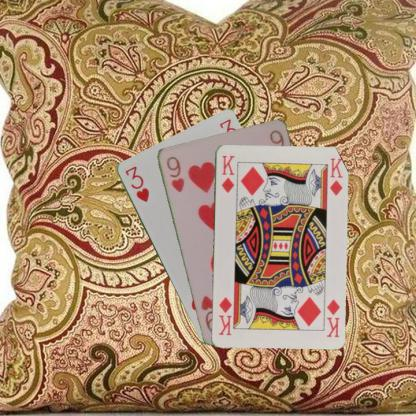3h: (122, 163, 150, 204)
9h: (164, 154, 186, 194)
Kd: (218, 152, 236, 194), (323, 296, 341, 338)
